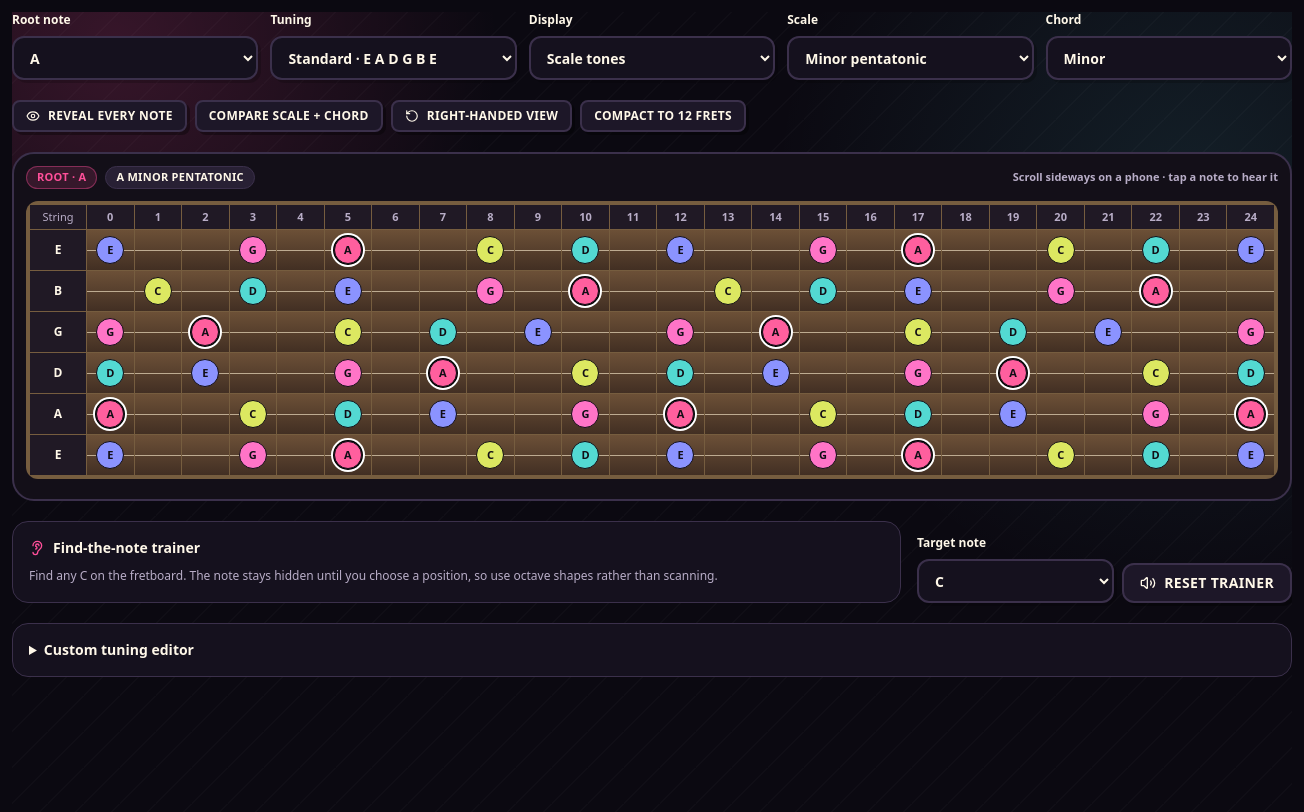
Test case: FretboardExplorer › reveals comparison language and gives trainer feedback
What coordinates should you click on to do the following:
click the button "Compare scale + chord"
I would click on:
 (289, 116)
Its box is 195,100 -> 383,132.
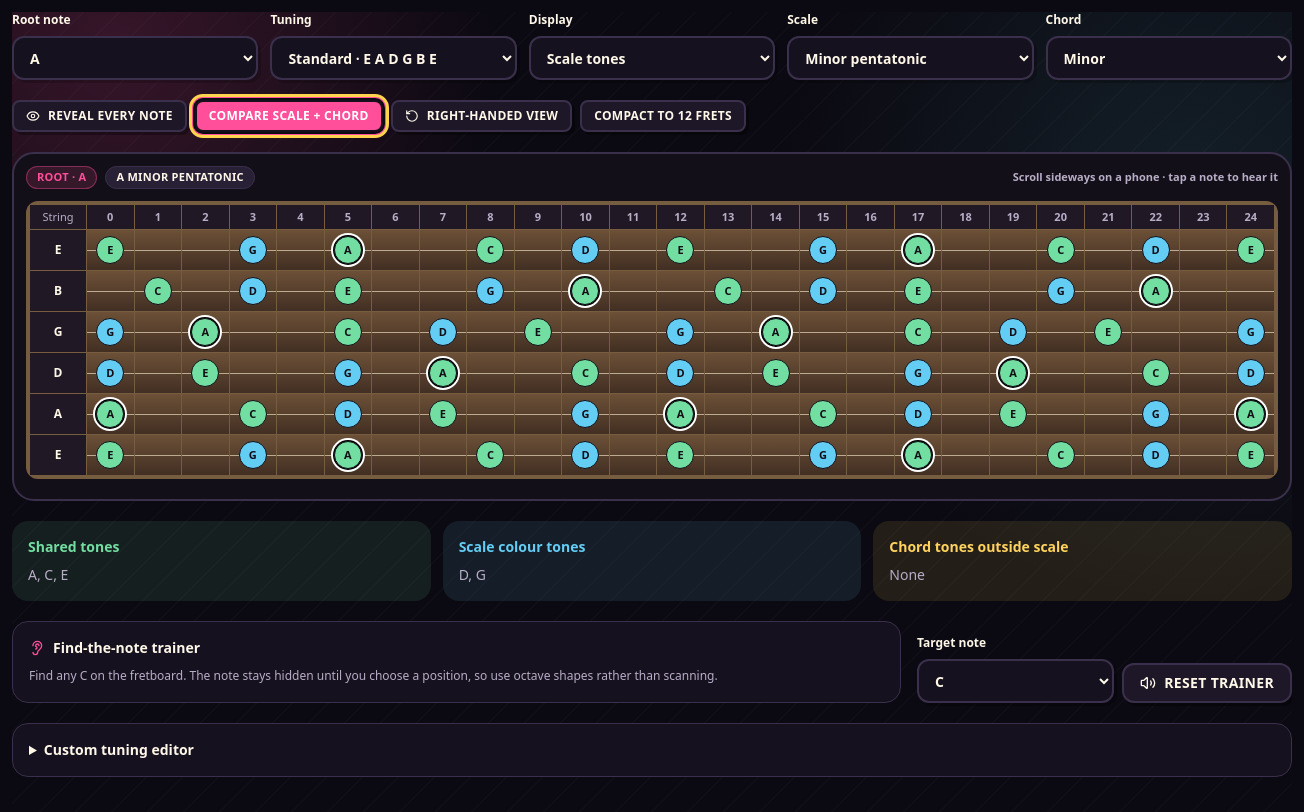
Result: the text "Shared tones" is shown at 28,537 -> 119,556
What coordinates should you click on to do the following:
click the cell named "A2, string 6, fret 5"
I would click on:
 (348, 455)
Its box is 325,435 -> 371,475.
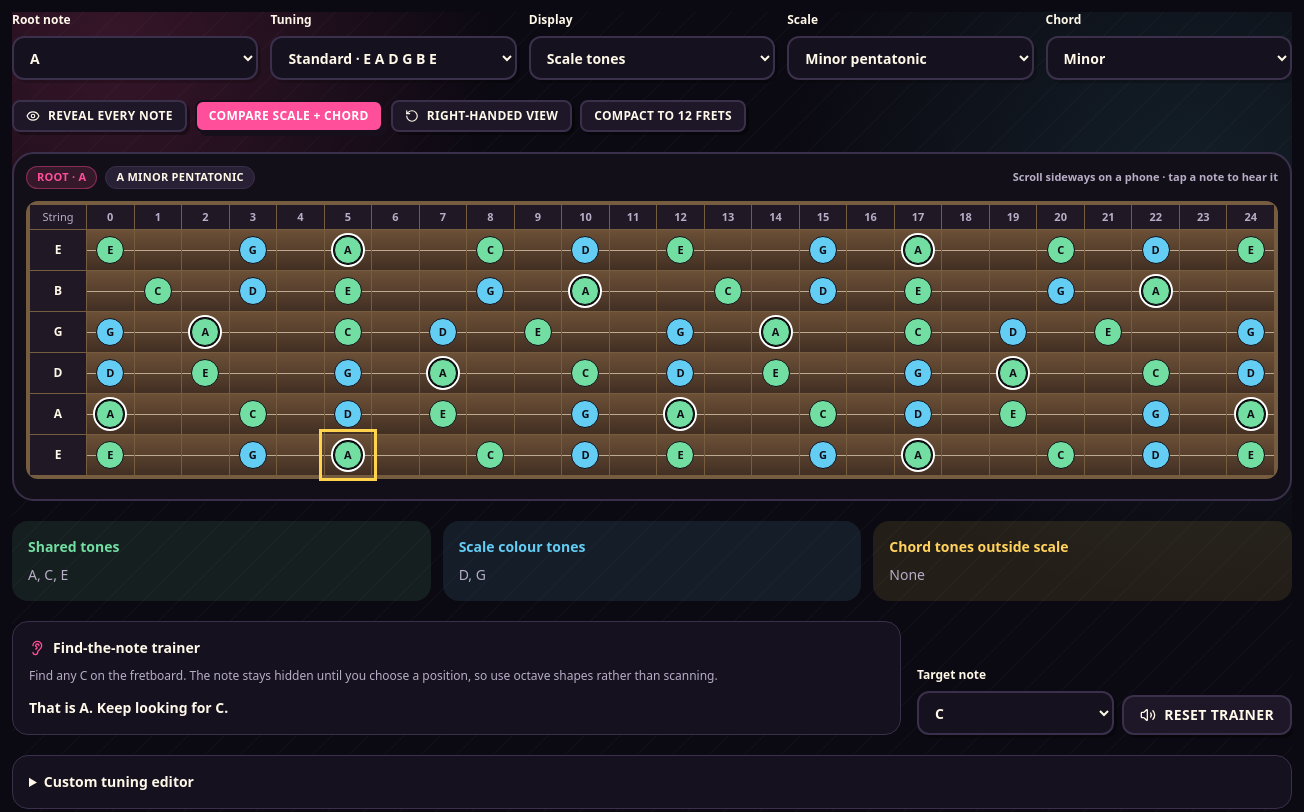
Result: the message reads "That is A. Keep looking for C." at 29,698 -> 228,717
